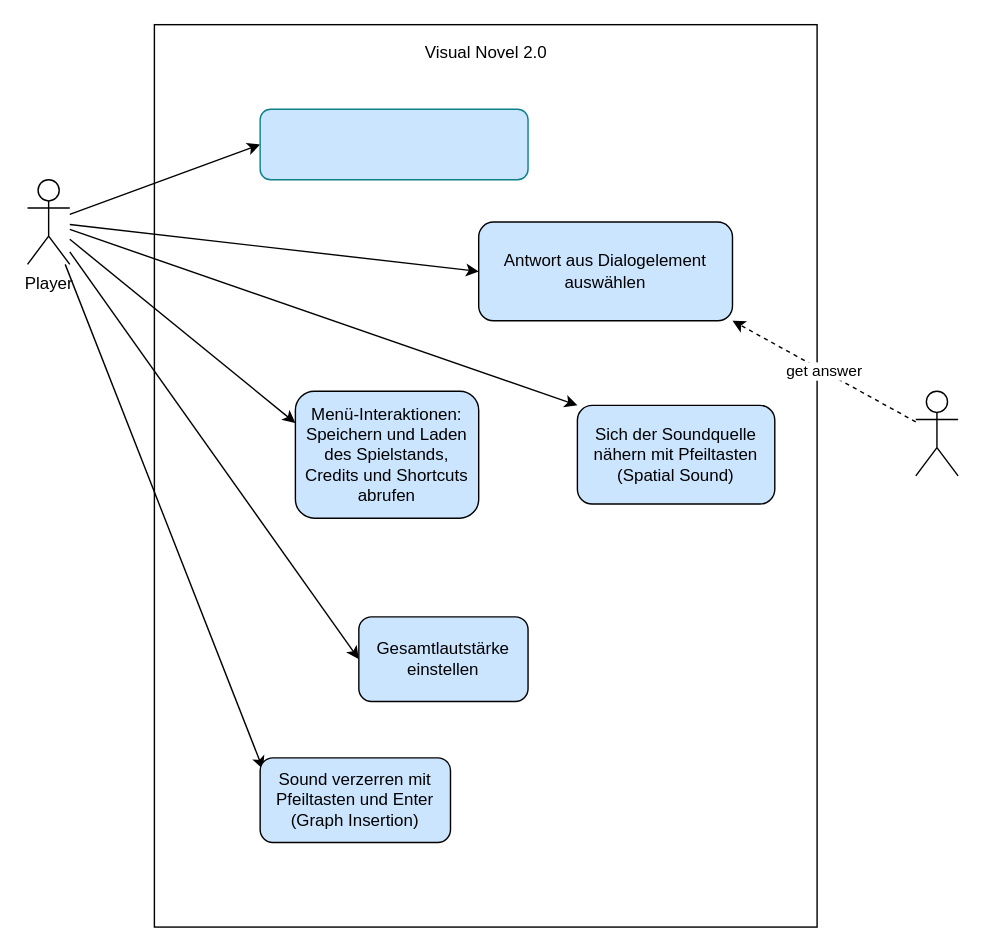
This 983x952 diagram has some shape labels left out. The centre of each missing label's shape, as x and y in pixels:
"NPC" goes at pixel 936 433.
"Nächstes Textelement per Klick" goes at pixel 393 144.
